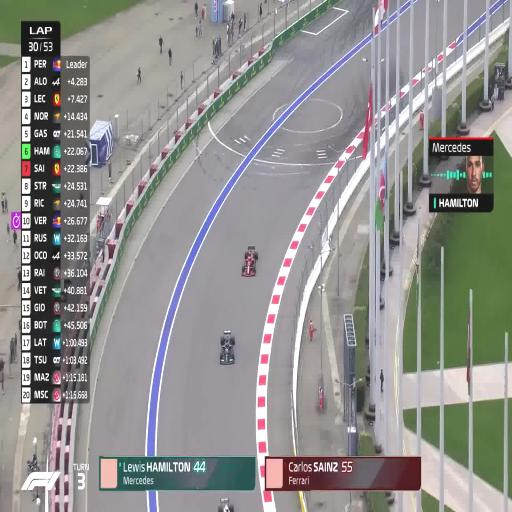f1_car: (241, 246, 258, 276), (220, 331, 234, 364), (218, 497, 234, 511)
